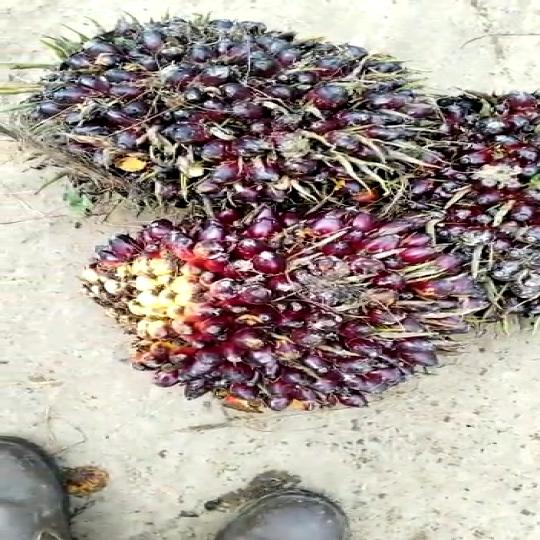kurang masak: (13, 19, 448, 221), (93, 204, 504, 400)
